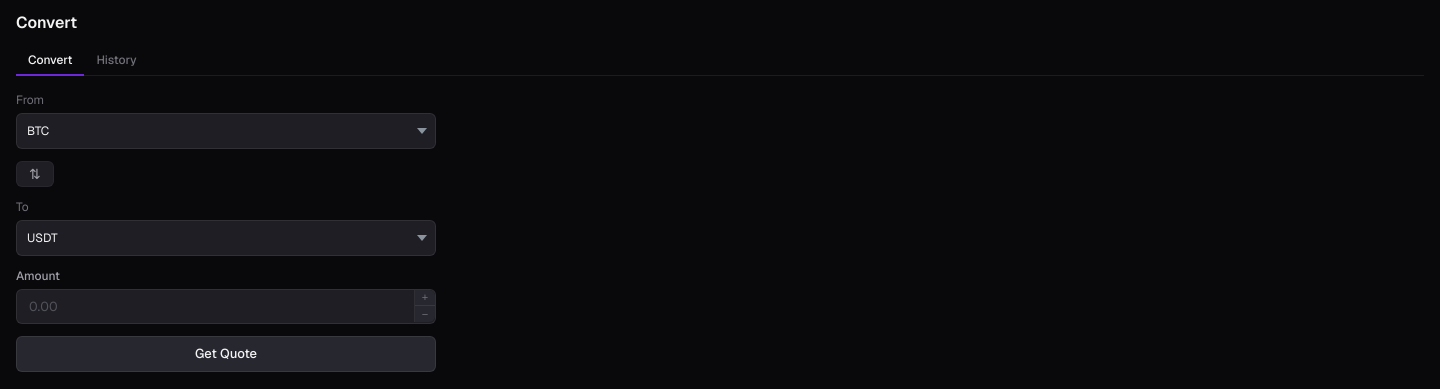
Test: ConvertPage › swap button swaps the from and to asset values
Expected: the dropdown labelled "From" shows "BTC", [16,113,436,149]
Expected: the dropdown labelled "To" shows "USDT", [16,220,436,256]
Click the button titled "Swap assets": coordinates (35, 174) [16,161,54,187]
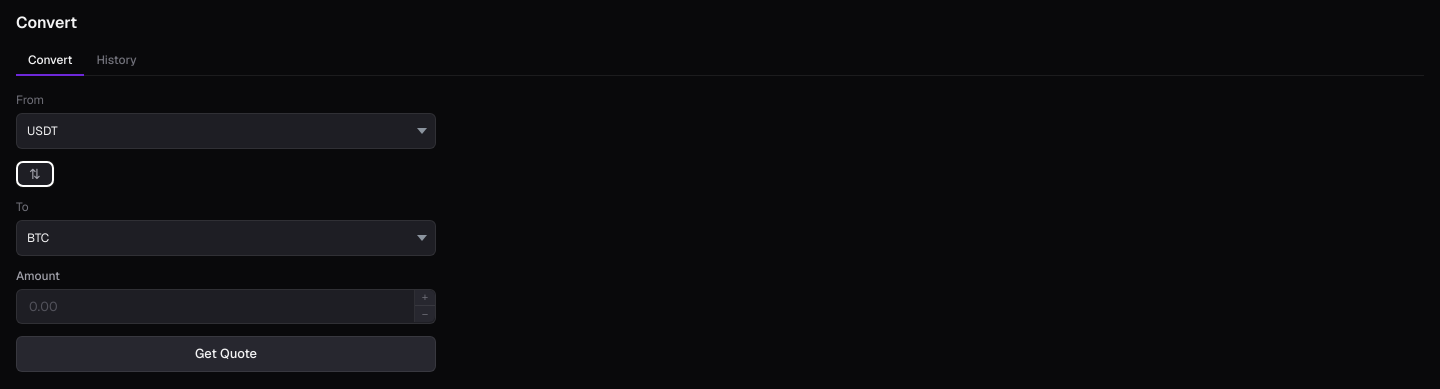
Expected: the dropdown labelled "From" shows "USDT", [16,113,436,149]
Expected: the dropdown labelled "To" shows "BTC", [16,220,436,256]
